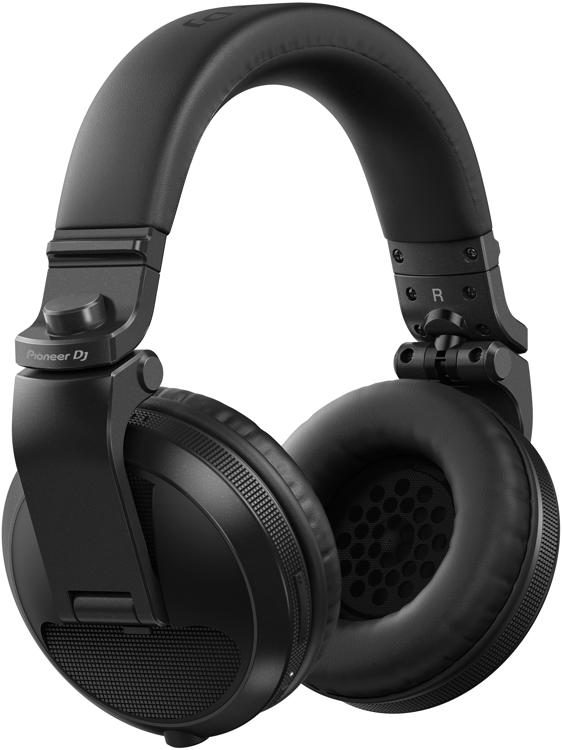Headphone: (4, 1, 562, 747)
